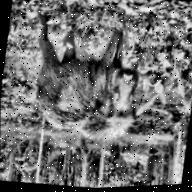boar: (19, 12, 150, 157)
